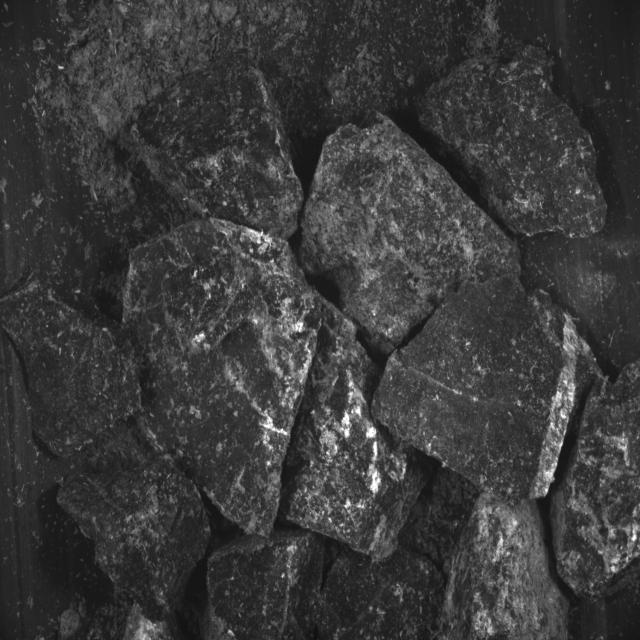Stones: (125, 219, 322, 536), (301, 116, 521, 355), (374, 276, 585, 503), (281, 322, 432, 561), (420, 47, 607, 238), (134, 56, 304, 240), (1, 273, 142, 458), (59, 457, 211, 613), (552, 362, 640, 599), (441, 493, 570, 640), (209, 531, 325, 640), (319, 550, 445, 640)
